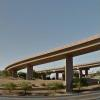Bridge: (8, 31, 96, 69)
